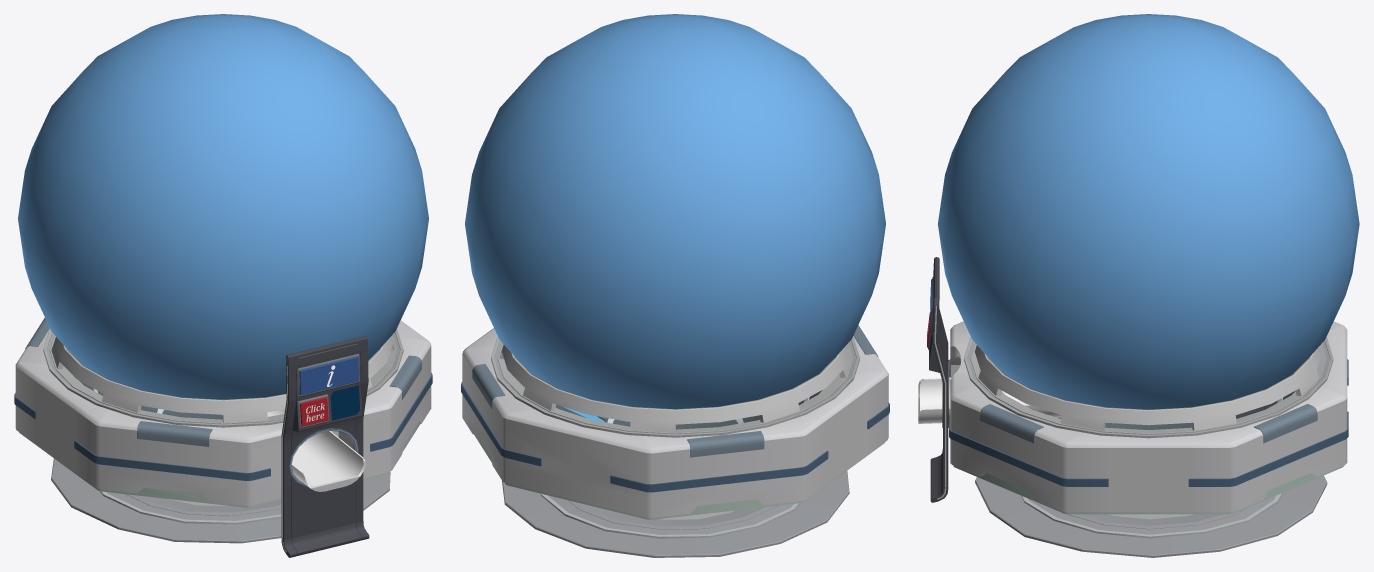
File: MOb_CapsuleBowl.fbx
3 views of the same model, side by side, from view 1: azimuth 30°, elevation 25°; view 2: azimuth 150°, elevation 25°; view 3: azimuth 270°, elevation 25° (orthographic). The views are drawn at different scales.
Visible parts, largest first — view 1: MOb_CapsuleBowl, MOb_CapsuleBowl_under; view 2: MOb_CapsuleBowl, MOb_CapsuleBowl_under; view 3: MOb_CapsuleBowl, MOb_CapsuleBowl_under.
Part boxes in pixels (x1,y1,x2,y2): MOb_CapsuleBowl: (18,14,428,399); MOb_CapsuleBowl_under: (14,318,432,557); MOb_CapsuleBowl: (465,14,885,409); MOb_CapsuleBowl_under: (461,325,889,557); MOb_CapsuleBowl: (938,14,1359,409); MOb_CapsuleBowl_under: (918,257,1348,557).
Size of the model in its own units: 3.03 by 3.17 by 3.57.
